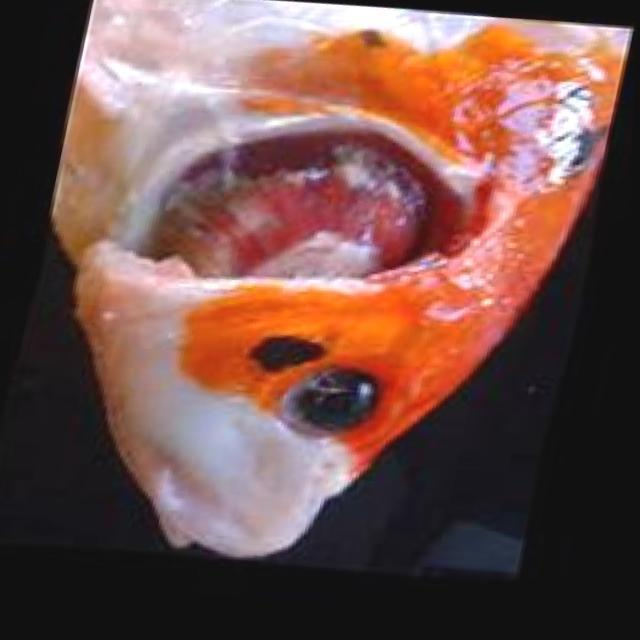Gill Disease: (61, 8, 607, 566)
